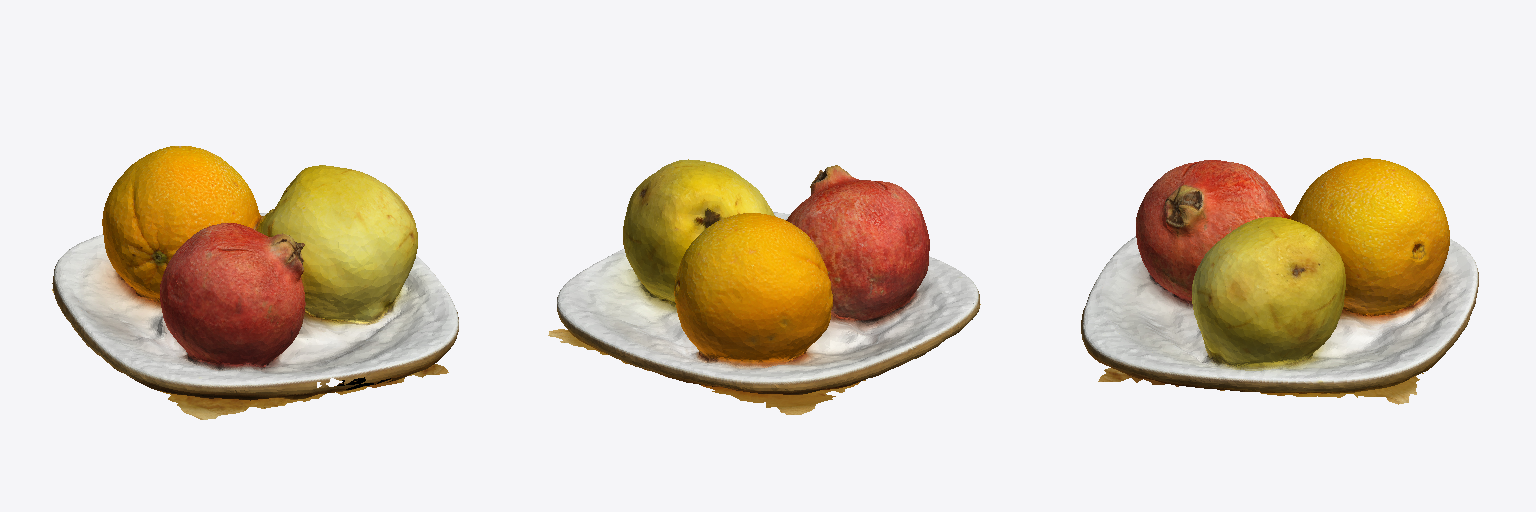
3 views of the same model, side by side, from view 1: azimuth 30°, elevation 25°; view 2: azimuth 150°, elevation 25°; view 3: azimuth 270°, elevation 25° (orthographic).
Visible parts, largest first — view 1: 8; view 2: 8; view 3: 8.
Boxes of the visible parts, box(x1,y1,x2,y2) form: 8: box(52, 146, 458, 419); 8: box(548, 159, 980, 414); 8: box(1081, 158, 1478, 404).
Size of the model in its own units: 0.2232 by 0.0959 by 0.2275.
Materials: 1 (1 with a texture image).